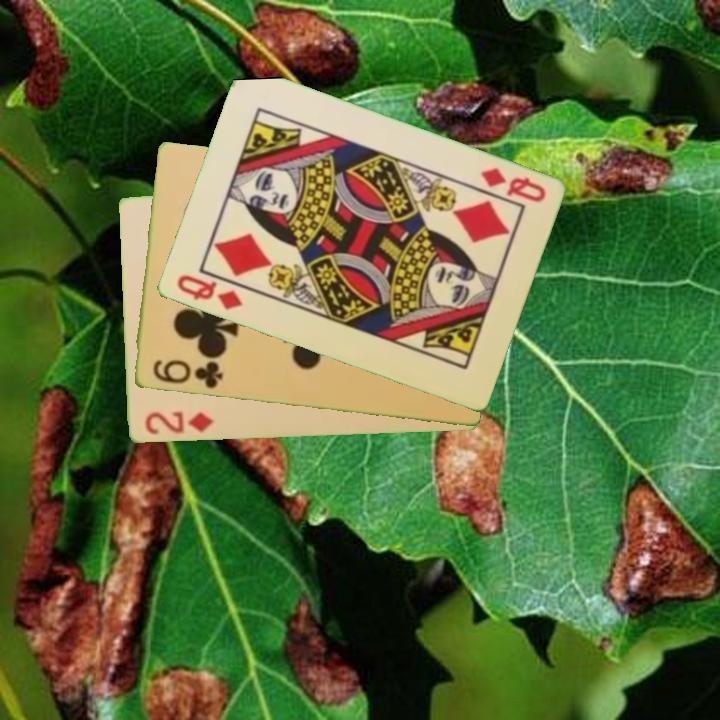2d: (141, 408, 216, 438)
6c: (148, 356, 225, 392)
Qd: (172, 271, 245, 313), (476, 164, 548, 206)
